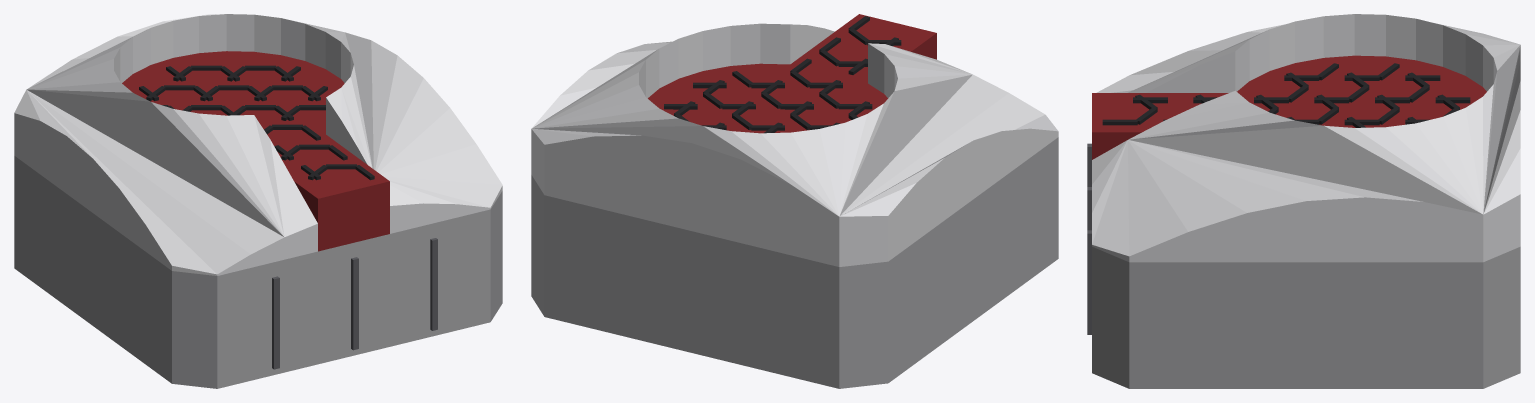
Rendered from vge_operator_subpersona_core.obj.
The picture shows the model from 3 angles, left to right: view 1: azimuth 30°, elevation 25°; view 2: azimuth 150°, elevation 25°; view 3: azimuth 270°, elevation 25°; orthographic projection. The views are drawn at different scales.
Visible parts, largest first — view 1: vge_operator_subpersona_core_4, vge_operator_subpersona_core_0, vge_operator_subpersona_core_5, vge_operator_subpersona_core_1, vge_operator_subpersona_core_2, vge_operator_subpersona_core_3; view 2: vge_operator_subpersona_core_4, vge_operator_subpersona_core_0, vge_operator_subpersona_core_5; view 3: vge_operator_subpersona_core_4, vge_operator_subpersona_core_0, vge_operator_subpersona_core_5, vge_operator_subpersona_core_3.
Part boxes in pixels (x1,y1,x2,y2): vge_operator_subpersona_core_4: (14, 14, 502, 275); vge_operator_subpersona_core_0: (14, 156, 502, 388); vge_operator_subpersona_core_5: (122, 51, 389, 251); vge_operator_subpersona_core_1: (272, 276, 279, 369); vge_operator_subpersona_core_2: (351, 257, 358, 350); vge_operator_subpersona_core_3: (430, 238, 437, 330); vge_operator_subpersona_core_4: (531, 23, 1058, 266); vge_operator_subpersona_core_0: (531, 137, 1058, 388); vge_operator_subpersona_core_5: (648, 14, 936, 133); vge_operator_subpersona_core_4: (1092, 14, 1520, 262); vge_operator_subpersona_core_0: (1092, 246, 1520, 388); vge_operator_subpersona_core_5: (1092, 55, 1486, 159); vge_operator_subpersona_core_3: (1087, 230, 1091, 334).
Size of the model in its own units: 0.92 by 0.5387 by 0.93.
